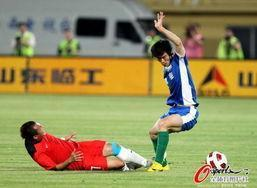Fall-Detected: (17, 111, 153, 172)
